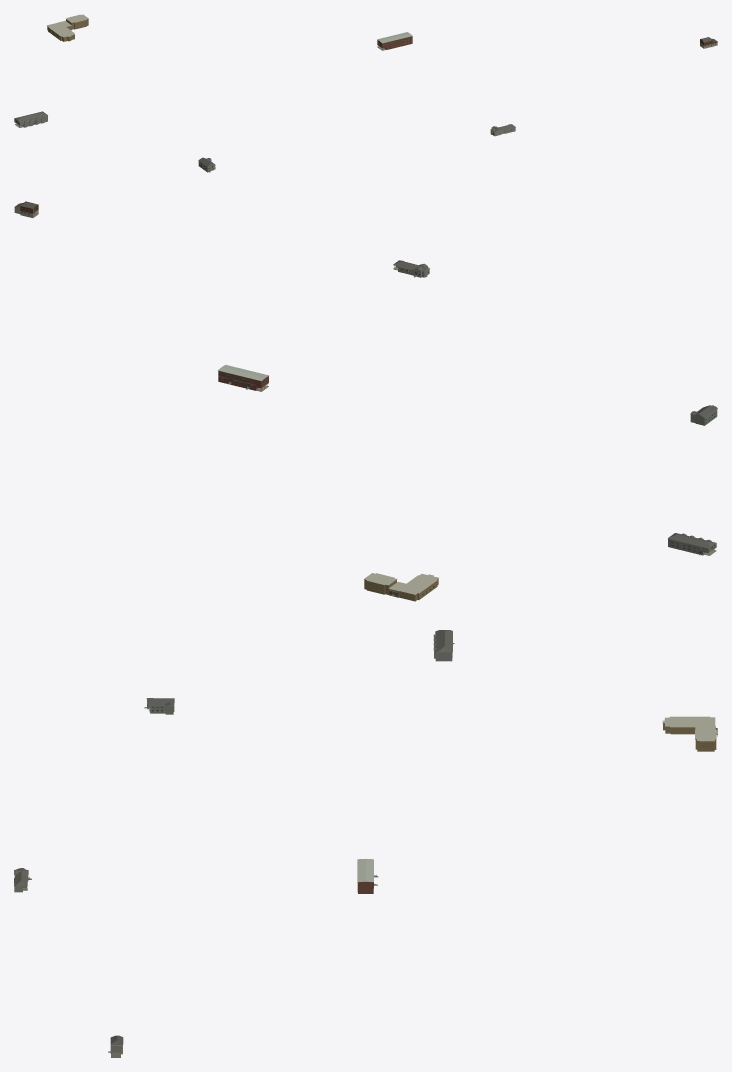
Rendered from site.glb.
3 renders of one model, top to bottom at view 1: azimuth 30°, elevation 25°; view 2: azimuth 150°, elevation 25°; view 3: azimuth 270°, elevation 25°, orthographic. The views are drawn at different scales.
Visible parts, largest first — view 1: roof-efbfe809, roof-aae8fc07, roof-f447a8a6; view 2: roof-efbfe809, roof-aae8fc07, roof-f447a8a6; view 3: roof-efbfe809.
Part boxes in pixels (left/top/right/bottom): roof-efbfe809: left=47, top=14, right=88, bottom=41; roof-aae8fc07: left=377, top=32, right=412, bottom=50; roof-f447a8a6: left=14, top=111, right=47, bottom=127; roof-efbfe809: left=364, top=573, right=438, bottom=601; roof-aae8fc07: left=218, top=364, right=268, bottom=391; roof-f447a8a6: left=668, top=533, right=716, bottom=555; roof-efbfe809: left=662, top=716, right=717, bottom=751.
Bounding box in the file's own units: 743 × 29.23 × 499.
